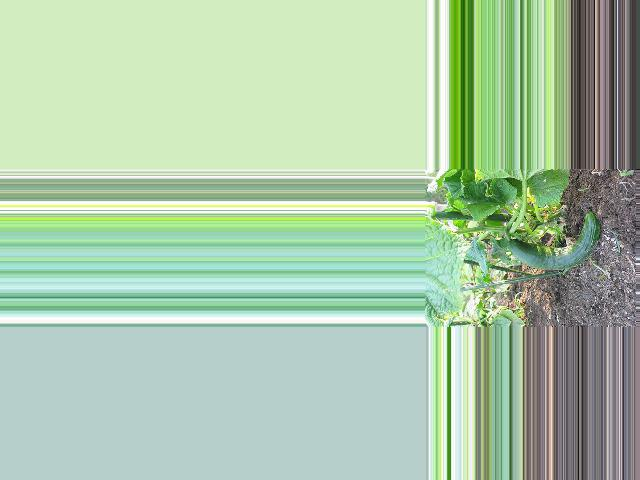cucumber: (507, 211, 600, 270)
